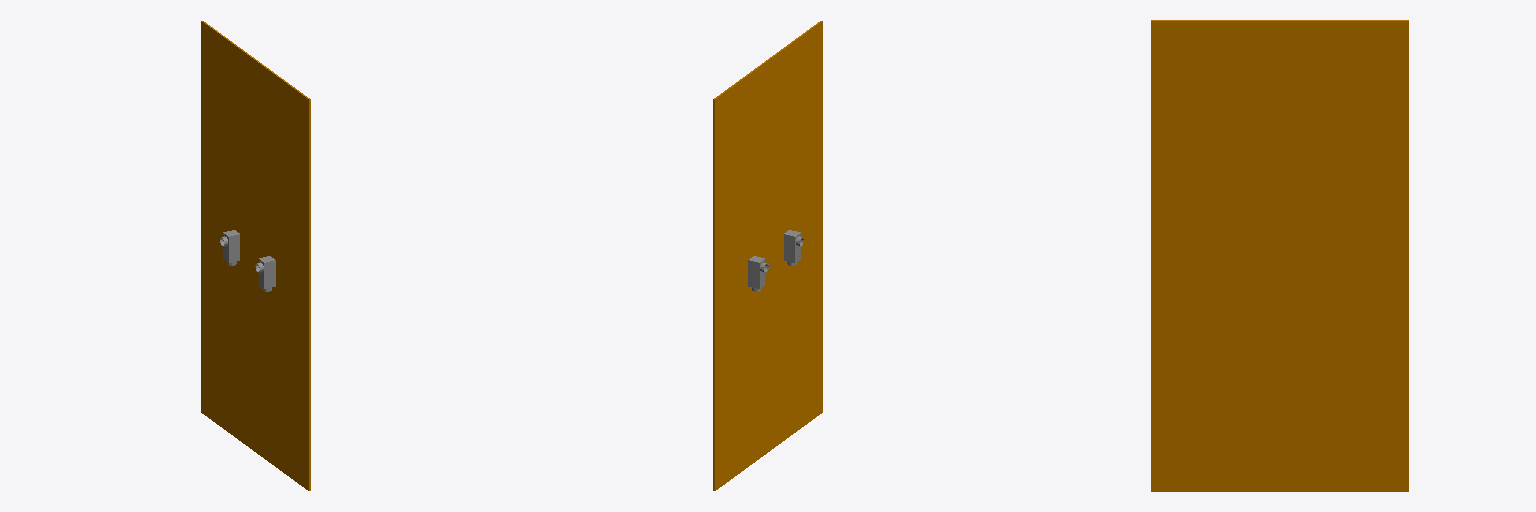
robot.urdf — DRCTestbedHoseWall_static:
<?xml version="1.0"?>
<robot name="DRCTestbedHoseWall_static"
       xmlns:xi="http://www.w3.org/2001/XInclude"
       >
  <gazebo>
    <static>true</static>
  </gazebo>
  <link name="nil_link">
    <visual>
      <origin xyz="0 0 0" rpy="0 -0 0"/>
      <geometry>
        <mesh filename="model://DRCTestbedHoseWall/meshes/nil_link_mesh.dae" scale="1 1 1" />
      </geometry>
    </visual>
    <collision>
      <origin xyz="0 0 0" rpy="0 -0 0"/>
      <geometry>
        <mesh filename="model://DRCTestbedHoseWall/meshes/nil_link_mesh.dae" scale="1 1 1" />
      </geometry>
    </collision>
    <inertial>
      <mass value="0.001" />
      <origin xyz="0 0 0" rpy="0 -0 0"/>
      <inertia ixx="1e-03" ixy="0" ixz="0" iyy="1e-03" iyz="0" izz="1e-03"/>
    </inertial>
  </link>
  <gazebo reference="nil_link">
    <mu1>0.9</mu1>
    <mu2>0.9</mu2>
  </gazebo>
</robot>

--- Render facts (derived) ---
3 views of the same robot in one strip: view 1: azimuth 30°, elevation 25°; view 2: azimuth 150°, elevation 25°; view 3: azimuth 270°, elevation 25° (orthographic).
Model DRCTestbedHoseWall_static with 1 links and 0 joints (none), rooted at nil_link, posed all joints at 0.
Links seen in each view (by area): view 1: nil_link; view 2: nil_link; view 3: nil_link.
Boxes of the visible links, bbox=[...] form: nil_link: bbox=[201, 21, 310, 490]; nil_link: bbox=[713, 21, 822, 490]; nil_link: bbox=[1151, 20, 1408, 491].
Size in the robot's own frame: 0.11 by 1.21 by 2.43 metres.
Meshes: 1 distinct files referenced, 1 mesh visuals loaded (1 Collada DAE).